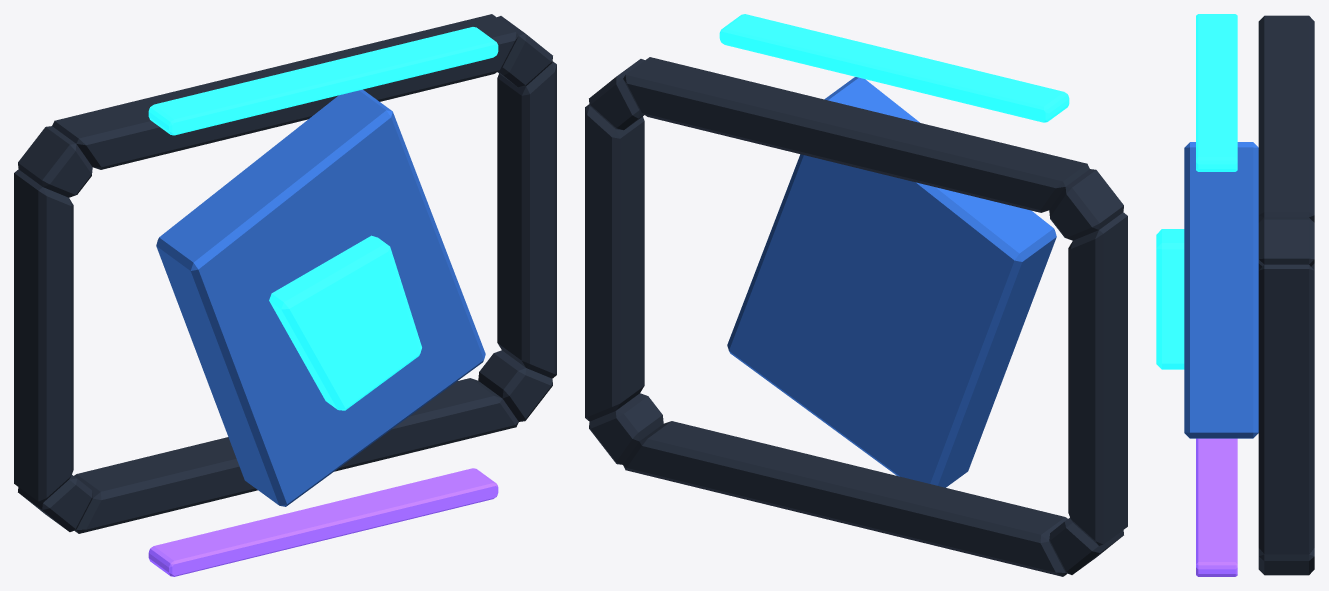
Rendered from tech-prisma.glb.
3 renders of one model, left to right at view 1: azimuth 30°, elevation 25°; view 2: azimuth 150°, elevation 25°; view 3: azimuth 270°, elevation 25°, orthographic. The views are drawn at different scales.
Parts seen in each view (by area): view 1: tech-prisma_SystemMaterial, tech-prisma_CoreMaterial, tech-prisma_SignalMaterial, tech-prisma_AccentMaterial; view 2: tech-prisma_SystemMaterial, tech-prisma_CoreMaterial, tech-prisma_SignalMaterial; view 3: tech-prisma_SystemMaterial, tech-prisma_CoreMaterial, tech-prisma_SignalMaterial, tech-prisma_AccentMaterial.
Boxes of the visible parts, <box> form: tech-prisma_SystemMaterial: <box>14,14,556,533</box>; tech-prisma_CoreMaterial: <box>156,89,485,506</box>; tech-prisma_SignalMaterial: <box>148,27,498,410</box>; tech-prisma_AccentMaterial: <box>148,468,498,576</box>; tech-prisma_SystemMaterial: <box>585,57,1127,576</box>; tech-prisma_CoreMaterial: <box>727,77,1056,487</box>; tech-prisma_SignalMaterial: <box>719,14,1069,122</box>; tech-prisma_SystemMaterial: <box>1258,15,1314,575</box>; tech-prisma_CoreMaterial: <box>1184,142,1258,438</box>; tech-prisma_SignalMaterial: <box>1156,14,1237,369</box>; tech-prisma_AccentMaterial: <box>1196,438,1237,576</box>.
Size of the model in its own units: 1.18 by 0.995 by 0.34.
